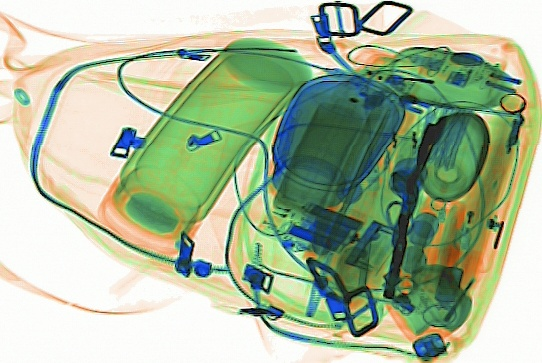lighter: (453, 179, 482, 252)
